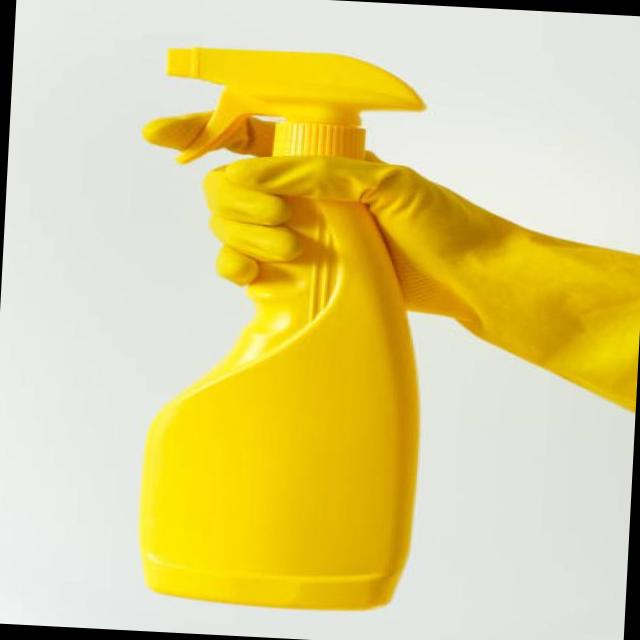Gloves: (184, 140, 640, 415)
